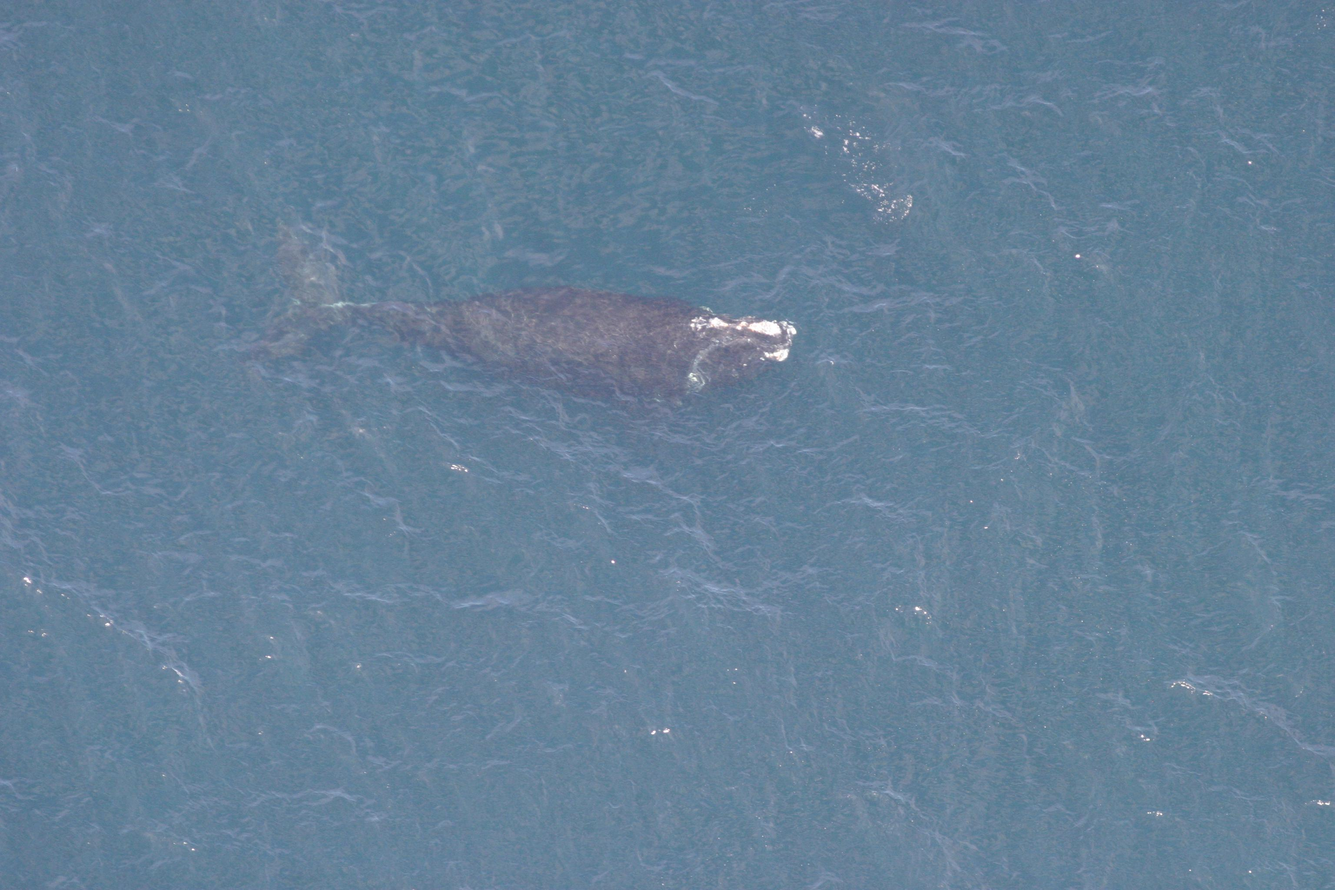whale: (234, 213, 800, 447)
